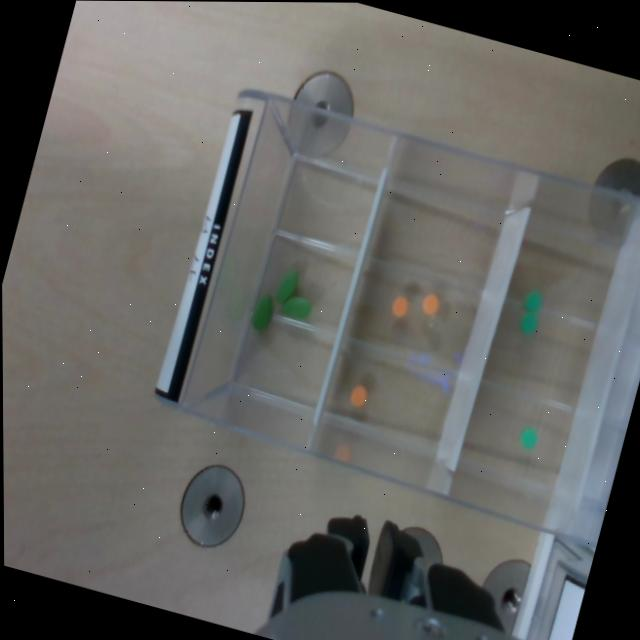famodine: (521, 286, 542, 312), (517, 308, 538, 333), (518, 426, 539, 449)
otillen_tab: (247, 290, 276, 333), (280, 292, 314, 321), (274, 266, 298, 303)
samsung_octylonium_tab: (346, 381, 369, 407), (389, 292, 411, 317), (420, 291, 440, 316)
